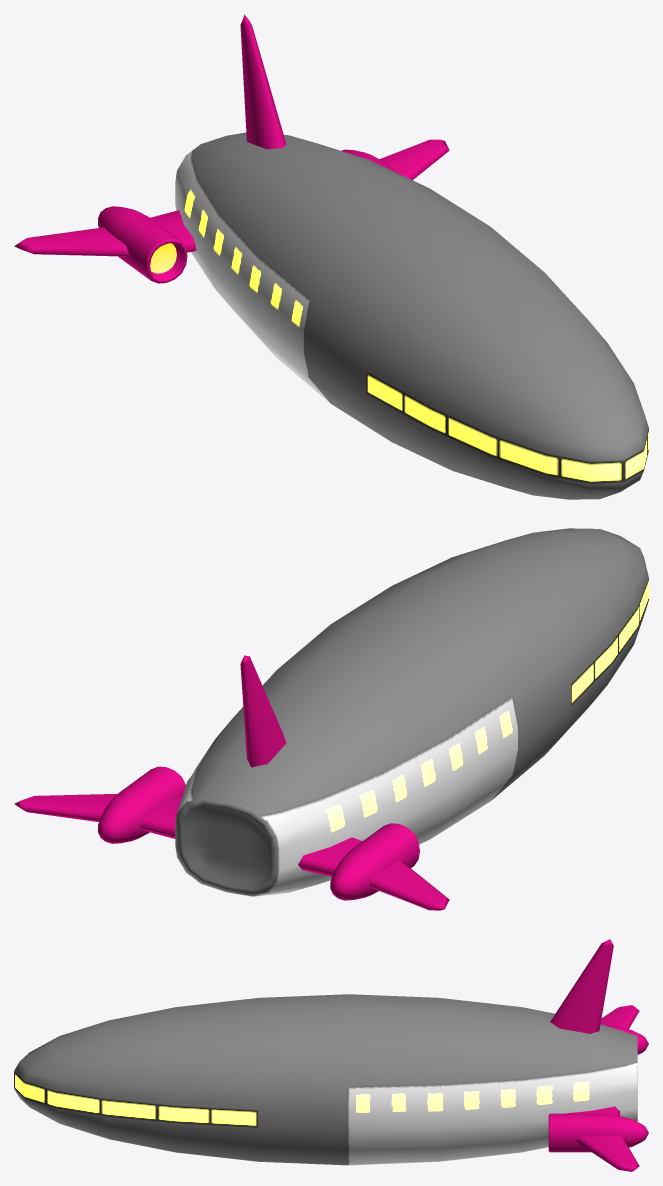
The model's file is Balloon.fbx.
3 renders of one model, top to bottom at view 1: azimuth 30°, elevation 25°; view 2: azimuth 150°, elevation 25°; view 3: azimuth 270°, elevation 25°, orthographic. The views are drawn at different scales.
Parts seen in each view (by area): view 1: BalloonMesh; view 2: BalloonMesh; view 3: BalloonMesh.
Part boxes in pixels (x1,y1,x2,y2): BalloonMesh: [14, 14, 648, 499]; BalloonMesh: [14, 528, 648, 910]; BalloonMesh: [14, 939, 648, 1171].
Bounding box in the file's own units: 3811 × 2309 × 6191.
